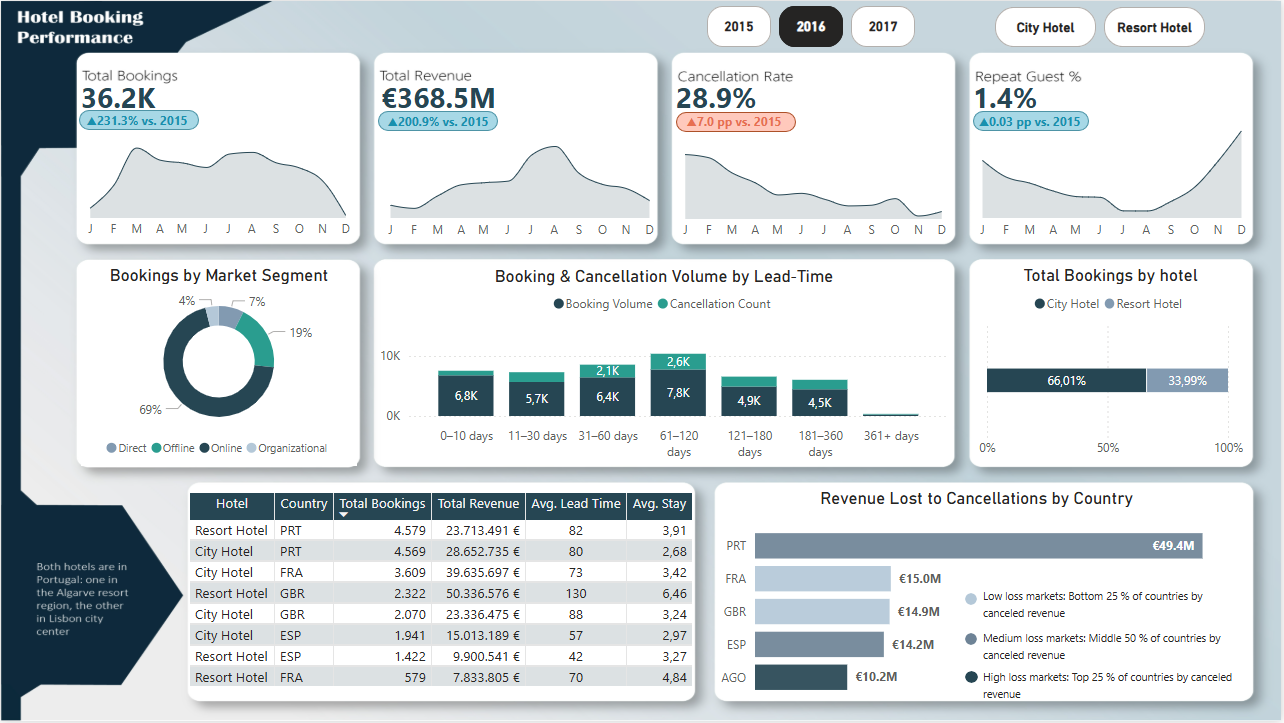

What the dashboard file says about the page in this screenshot:
{"tool":"powerbi","page":{"name":"Performance Dashboard","canvas":[1280,720],"ordinal":0},"visuals":[{"type":"lineChart","fields":{"Category":["hotel_bookings.Month Letter"],"Y":["Measures (2).Total Bookings"]},"box":[78,77,276,164],"z":0,"group":"g3"},{"type":"lineChart","fields":{"Y":["Measures (2).Total Revenue"],"Category":["hotel_bookings.Month Letter"]},"box":[377.3,77.3,281,165],"z":0,"group":"g1"},{"type":"lineChart","fields":{"Y":["Measures (2).Repeat Guest %"],"Category":["hotel_bookings.Month Letter"]},"box":[972.1,77.3,278.4,164.9],"z":0,"group":"g2"},{"type":"lineChart","fields":{"Y":["Measures (2).Cancellation Rate"],"Category":["hotel_bookings.Month Letter"]},"box":[672,77,278,165],"z":1000},{"type":"shape","box":[78,108.9,119.6,19.6],"z":1000,"group":"g3"},{"type":"shape","box":[972.2,110.3,115.5,19.6],"z":1500},{"type":"card","fields":{"Values":["Measures (2).YoY Booking Format"]},"box":[79,111,114.4,20.6],"z":2000,"group":"g3"},{"type":"card","fields":{"Values":["Measures (2).Past Year Subtitle Text"]},"box":[377.3,111.3,120,17],"z":2000,"group":"g1"},{"type":"card","fields":{"Values":["Measures (2).YoY Repeat Guest Δpp Label"]},"box":[971,113,115.5,19.6],"z":2000,"group":"g2"},{"type":"shape","box":[377,110,120,20],"z":3000},{"type":"advancedSlicerVisual","fields":{"Values":["hotel_bookings.arrival_date_combined.Variation.Date Hierarchy.Year"]},"box":[701,0,218,51],"z":4000},{"type":"group","id":"g1","title":"Group total booking","box":[377.3,77.3,280.4,164.9],"z":5000},{"type":"shape","box":[675,111,120,20],"z":6000},{"type":"group","id":"g2","title":"Group total booking","box":[971,77.3,279.5,164.9],"z":7000},{"type":"group","id":"g3","title":"Group total booking","box":[78,77,276,164],"z":8000},{"type":"columnChart","title":"Booking & Cancellation Volume by Lead‑Time","fields":{"Y":["CountNonNull(hotel_bookings.lead_time)","Sum(hotel_bookings.is_canceled)"],"Category":["hotel_bookings.LeadTimeBin"]},"box":[374.2,263.9,577.3,202.1],"z":9000},{"type":"advancedSlicerVisual","fields":{"Values":["hotel_bookings.hotel"]},"box":[994,6,210,40],"z":10000},{"type":"tableEx","fields":{"Values":["hotel_bookings.hotel","hotel_bookings.country","Measures (2).Total Bookings","Measures (2).Total Revenue","Measures (2).Avg Lead Time","Measures (2).Avg Stay"]},"box":[184,487,511,213],"z":11000},{"type":"clusteredBarChart","title":"Revenue Lost to Cancellations by Country","fields":{"Category":["hotel_bookings.country"],"Y":["Measures (2).Canceled Revenue"]},"box":[713.4,486.6,524.7,221.6],"z":12000},{"type":"donutChart","title":"Bookings by Market Segment","fields":{"Y":["Measures (2).Total Bookings"],"Series":["hotel_bookings.New Market Segment"]},"box":[80.4,263.9,275.3,201],"z":13000},{"type":"hundredPercentStackedBarChart","fields":{"Y":["Measures (2).Total Bookings"],"Series":["hotel_bookings.hotel"]},"box":[971.8,263.6,275.5,201.8],"z":14000},{"type":"card","fields":{"Values":["Measures (2).YoY Cancellation Δpp Label"]},"box":[672,109.3,121.6,26.8],"z":15000},{"type":"shape","box":[964.1,632,12.4,12.4],"z":16000},{"type":"textbox","box":[977.3,621.6,273.2,50.5],"z":17000},{"type":"shape","box":[964,670,12.5,12],"z":18000},{"type":"textbox","box":[977.3,660.8,270.1,58.8],"z":19000},{"type":"shape","box":[964.1,592,12.4,12],"z":20000},{"type":"textbox","box":[977,580,270,48],"z":21000}]}

Visuals, with their boxes in screenshot pixels (x1, y1, x2, y2), scaled from the page's 1280x720 canvas onto the 1284x723 screenshot:
lineChart - hotel_bookings.Month Letter x Measures (2).Total Bookings: 78 77 355 242
lineChart - Measures (2).Total Revenue x hotel_bookings.Month Letter: 378 78 660 243
lineChart - Measures (2).Repeat Guest % x hotel_bookings.Month Letter: 975 78 1254 243
lineChart - Measures (2).Cancellation Rate x hotel_bookings.Month Letter: 674 77 953 243
shape: 78 109 198 129
shape: 975 111 1091 130
card - Measures (2).YoY Booking Format: 79 111 194 132
card - Measures (2).Past Year Subtitle Text: 378 112 499 129
card - Measures (2).YoY Repeat Guest Δpp Label: 974 113 1090 133
shape: 378 110 499 131
advancedSlicerVisual - hotel_bookings.arrival_date_combined.Variation.Date Hierarchy.Year: 703 0 922 51
"Group total booking" group: 378 78 660 243
shape: 677 111 797 132
"Group total booking" group: 974 78 1254 243
"Group total booking" group: 78 77 355 242
"Booking & Cancellation Volume by Lead‑Time" columnChart: 375 265 954 468
advancedSlicerVisual - hotel_bookings.hotel: 997 6 1208 46
tableEx - hotel_bookings.hotel x hotel_bookings.country: 185 489 697 703
"Revenue Lost to Cancellations by Country" clusteredBarChart: 716 489 1242 711
"Bookings by Market Segment" donutChart: 81 265 357 467
hundredPercentStackedBarChart - Measures (2).Total Bookings x hotel_bookings.hotel: 975 265 1251 467
card - Measures (2).YoY Cancellation Δpp Label: 674 110 796 137
shape: 967 635 980 647
textbox: 980 624 1254 675
shape: 967 673 980 685
textbox: 980 664 1251 722
shape: 967 594 980 607
textbox: 980 582 1251 631
